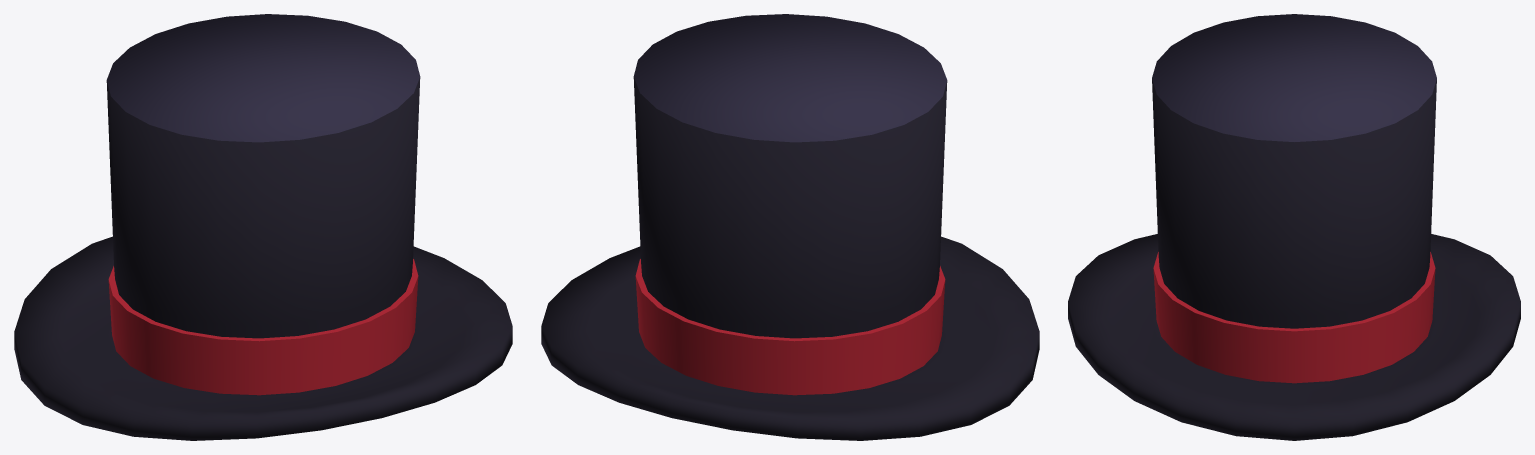
Rendered from tophat.glb.
3 views of the same model, side by side, from view 1: azimuth 30°, elevation 25°; view 2: azimuth 150°, elevation 25°; view 3: azimuth 270°, elevation 25° (orthographic). The views are drawn at different scales.
Parts seen in each view (by area): view 1: Crown, Brim, Band; view 2: Crown, Brim, Band; view 3: Crown, Brim, Band.
Boxes of the visible parts, bbox=[...] form: Crown: bbox=[106, 14, 420, 338]; Brim: bbox=[14, 236, 512, 440]; Band: bbox=[108, 259, 418, 395]; Crown: bbox=[633, 14, 947, 338]; Brim: bbox=[541, 236, 1039, 440]; Band: bbox=[635, 259, 945, 395]; Crown: bbox=[1152, 14, 1436, 328]; Brim: bbox=[1068, 234, 1520, 440]; Band: bbox=[1153, 252, 1435, 383].
Bounding box in the file's own units: 0.54 × 0.323 × 0.5076.
